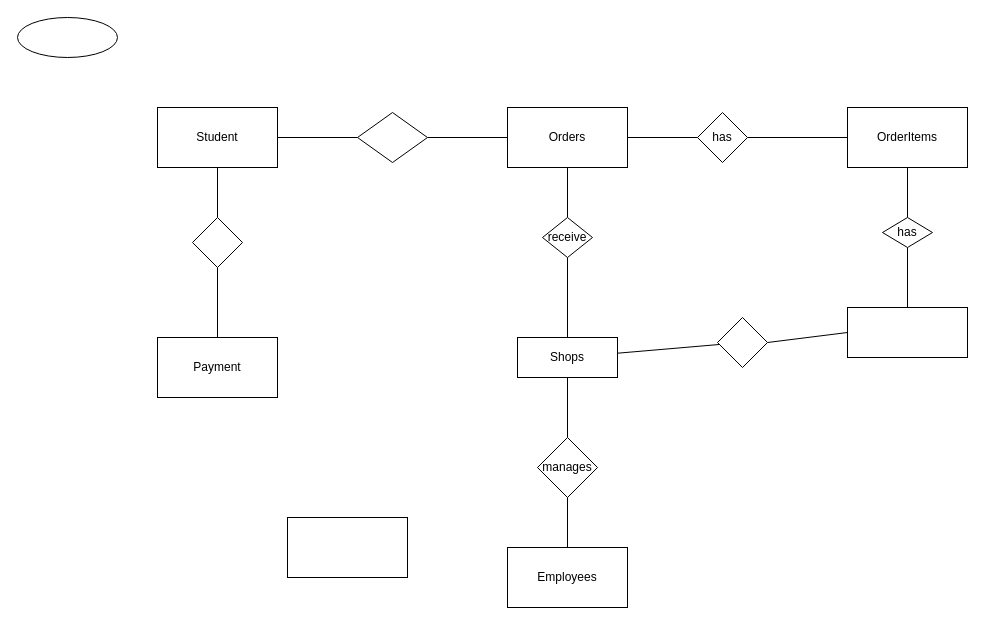
This 985x625 diagram has some shape labels left out. The shapes that lost their labels are listed below. From the top down, each one's centre as x and y in pixels, then its label:
At point 392,137: "creates".
At point 217,242: "makes".
At point 742,342: "provide".
At point 907,332: "FoodItems".
At point 347,547: "Login".
